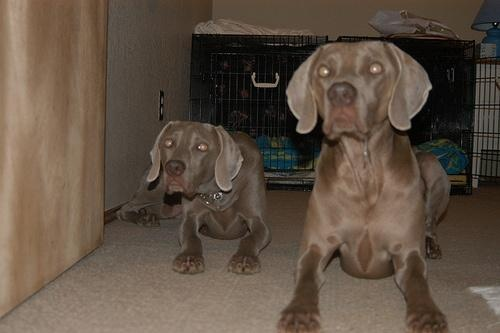dog: (274, 39, 454, 333), (114, 120, 273, 277)
